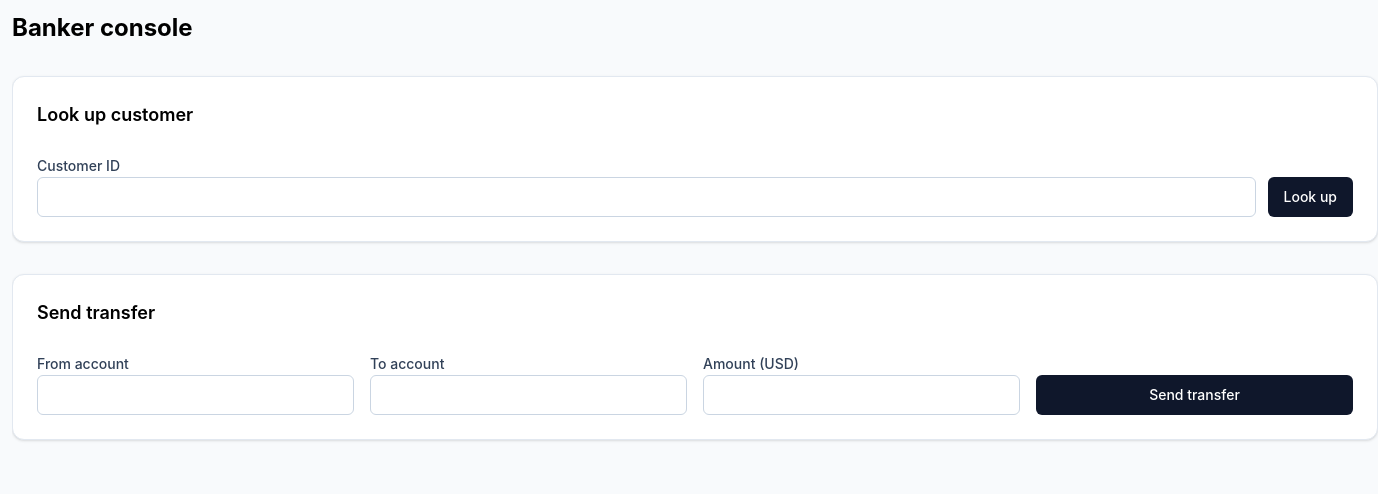
BankerConsolePage › submits a transfer and shows a success message
Type "acct-1" into the field labelled "From account" at (196, 395), box [37,375,354,415]
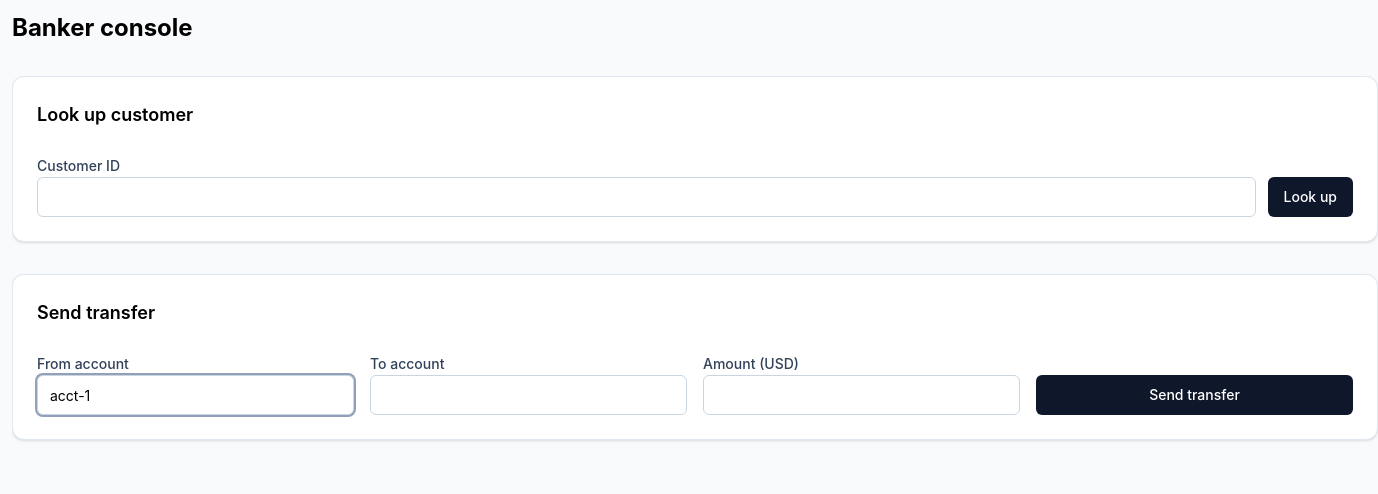
Type "acct-2" into the field labelled "To account" at (528, 395), box [370,375,687,415]
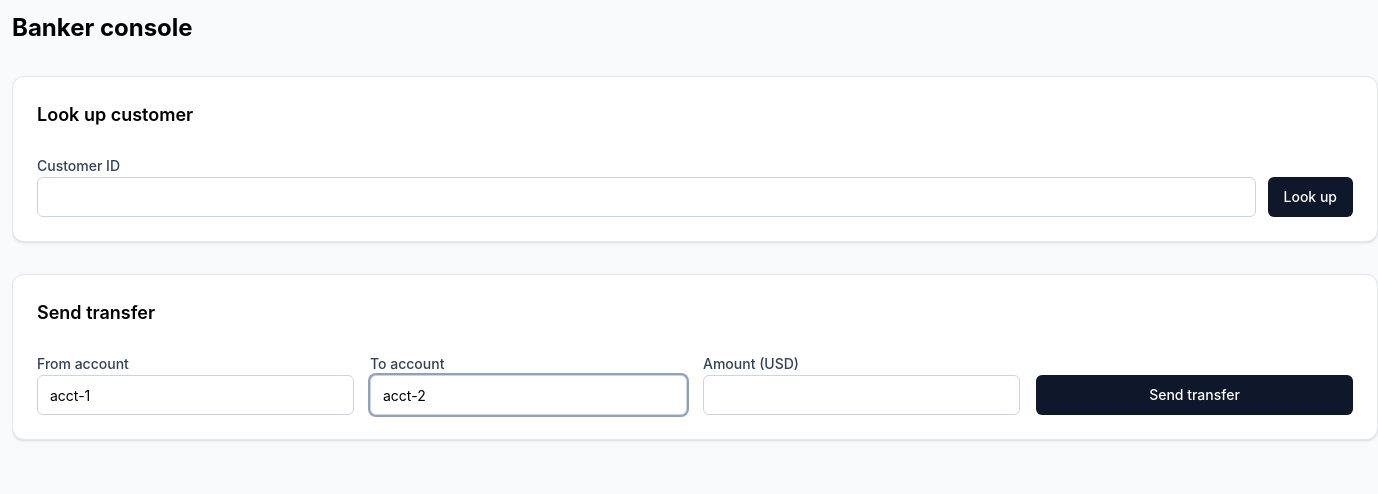
Type "50.00" into the field labelled "Amount (USD)" at (862, 395), box [703,375,1020,415]
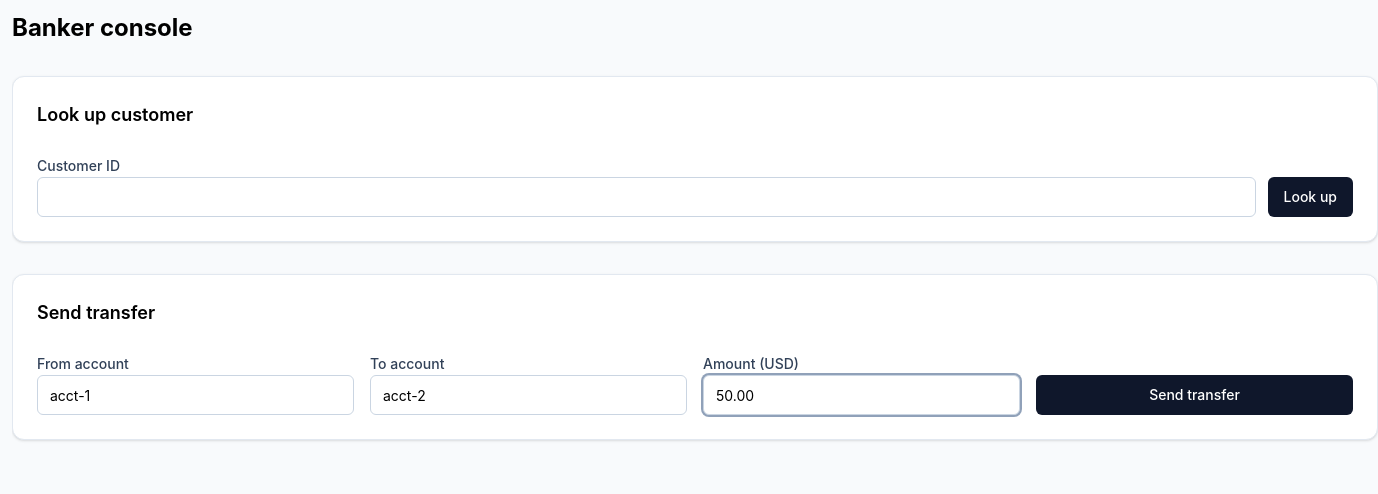
Click the button "Send transfer" at (1194, 395), box [1036,375,1353,415]
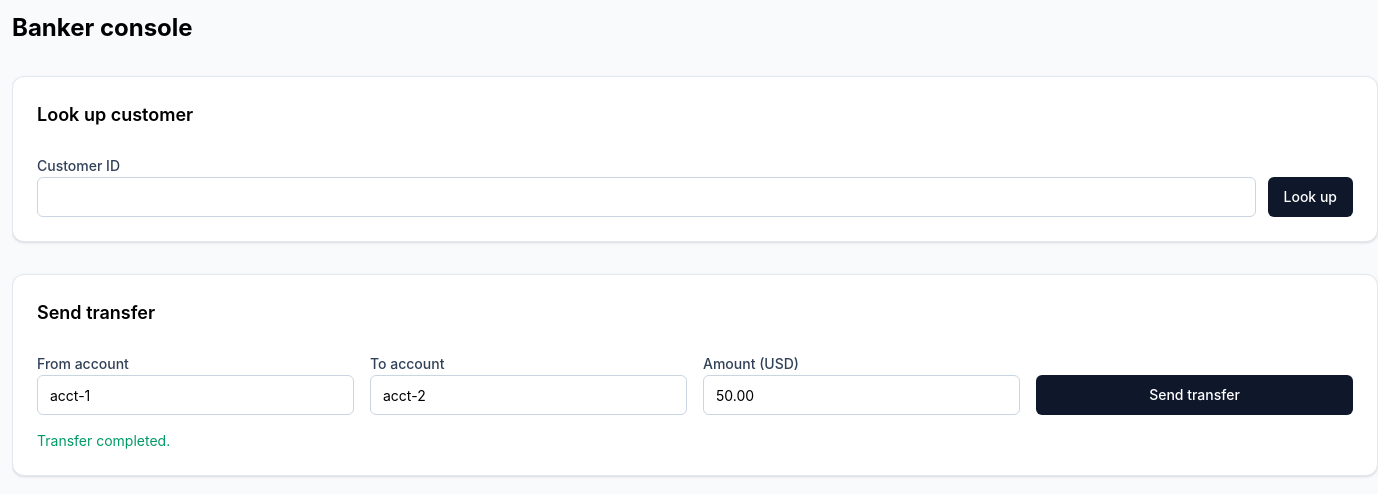
Check: the text "Transfer completed." is shown, box [37,432,170,449]
